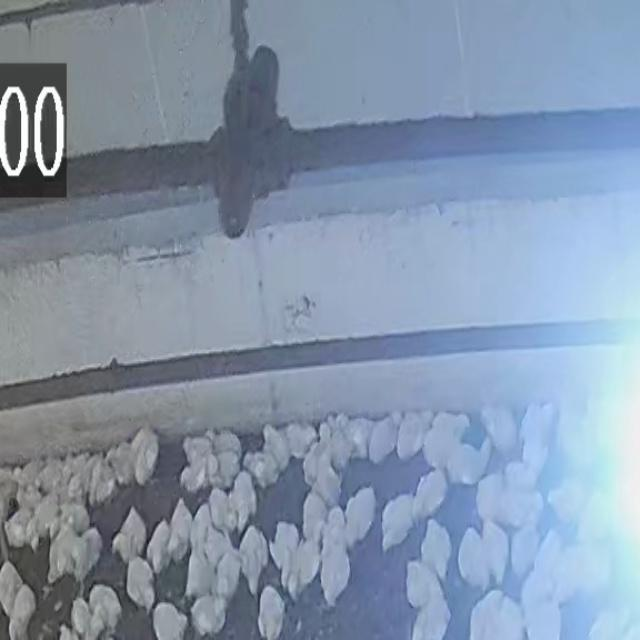chicken: (466, 589, 522, 640), (412, 584, 450, 640), (282, 541, 318, 600), (504, 443, 550, 489), (236, 528, 267, 596), (336, 414, 378, 462), (459, 527, 489, 593), (448, 438, 491, 484), (518, 565, 552, 621), (320, 544, 350, 606), (379, 497, 413, 551), (480, 408, 518, 456), (484, 523, 512, 587), (414, 471, 446, 526), (256, 584, 287, 640), (26, 496, 58, 550), (111, 506, 142, 560), (397, 412, 431, 461), (8, 583, 37, 640), (126, 556, 155, 613), (505, 491, 549, 528), (547, 482, 582, 528), (528, 596, 564, 640), (50, 529, 77, 587), (132, 428, 159, 486), (90, 584, 124, 630), (316, 449, 342, 509), (519, 403, 557, 444), (405, 560, 437, 608), (70, 454, 106, 496), (370, 414, 399, 466), (261, 425, 293, 472), (424, 520, 449, 579), (170, 498, 192, 564), (474, 474, 503, 524), (148, 518, 174, 573), (191, 598, 230, 634), (183, 552, 212, 600), (231, 472, 255, 530), (509, 526, 538, 574), (319, 504, 346, 554), (348, 487, 371, 545), (245, 452, 281, 488), (266, 520, 294, 566), (424, 428, 456, 468), (75, 531, 101, 580), (154, 602, 187, 640), (205, 428, 244, 457), (434, 411, 472, 440), (89, 464, 114, 508), (210, 486, 234, 531), (302, 495, 323, 544), (288, 423, 317, 458), (0, 560, 19, 613), (179, 458, 206, 493), (58, 502, 94, 528), (190, 508, 210, 554), (215, 451, 242, 485), (540, 527, 558, 577), (218, 556, 239, 598), (207, 530, 233, 562), (12, 460, 42, 486), (68, 598, 89, 634), (8, 510, 26, 550), (178, 435, 212, 456), (188, 451, 216, 473), (116, 444, 132, 482), (16, 485, 40, 506)
